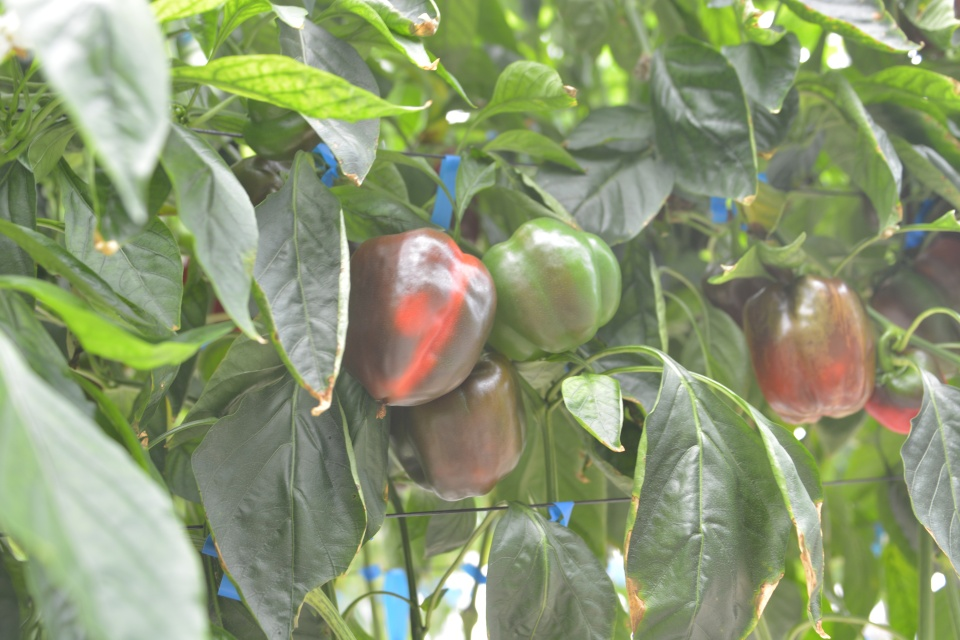fruit: (341, 221, 496, 421), (386, 343, 530, 501), (480, 212, 624, 367), (741, 271, 877, 428), (869, 232, 960, 343), (863, 341, 947, 433), (242, 96, 323, 161), (228, 152, 286, 207)
pedicle: (876, 359, 907, 376)
